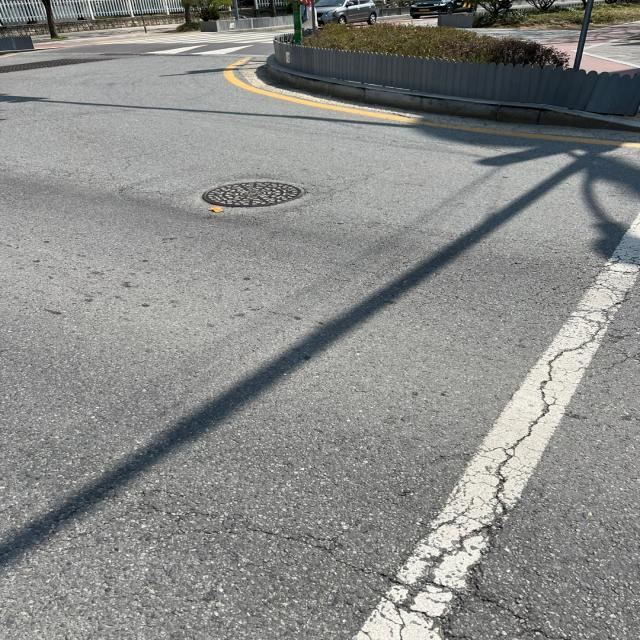Sewer Cover: (198, 169, 337, 232)
